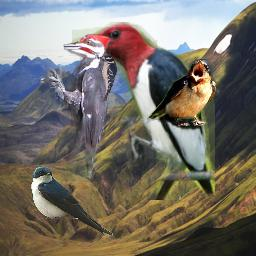Swallow: (31, 166, 113, 236), (147, 59, 217, 126)
Woodpecker: (72, 22, 215, 200), (38, 34, 113, 181), (97, 54, 118, 101)
